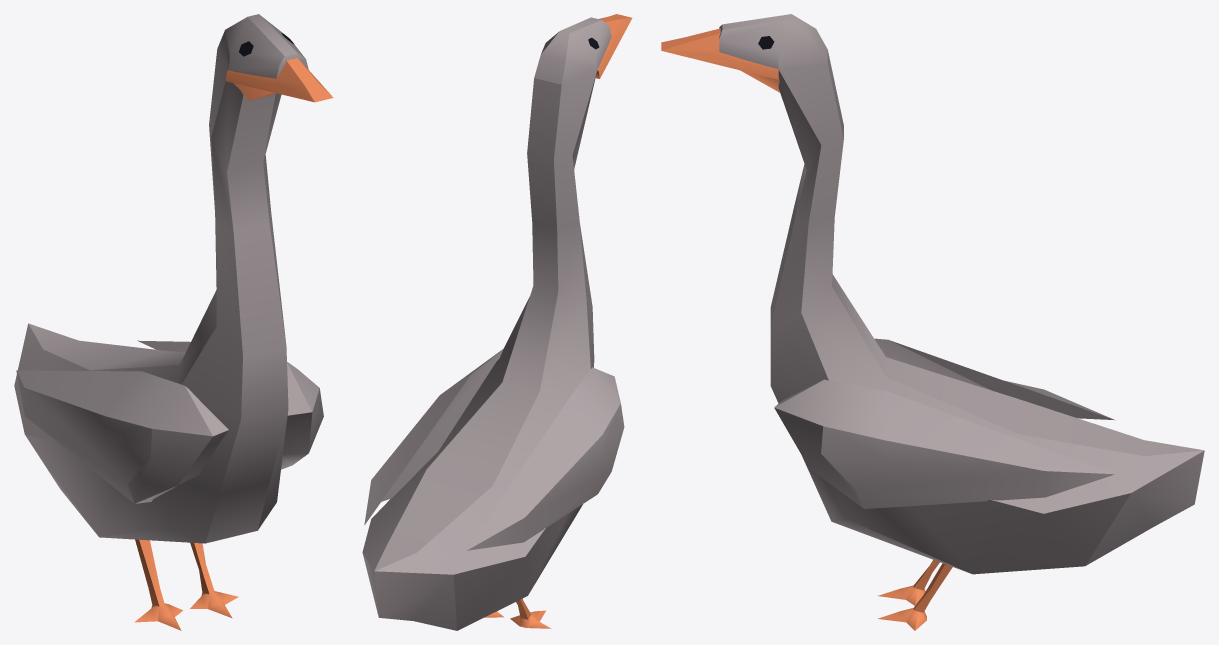
Rendered from Goose.fbx.
3 views of the same model, side by side, from view 1: azimuth 30°, elevation 25°; view 2: azimuth 150°, elevation 25°; view 3: azimuth 270°, elevation 25° (orthographic). The views are drawn at different scales.
Parts seen in each view (by area): view 1: Goose; view 2: Goose; view 3: Goose.
Boxes of the visible parts, left/top/right/bottom form: Goose: left=14, top=14, right=333, bottom=630; Goose: left=362, top=14, right=632, bottom=630; Goose: left=661, top=14, right=1204, bottom=630.
Size of the model in its own units: 13.03 by 40.71 by 33.95.
